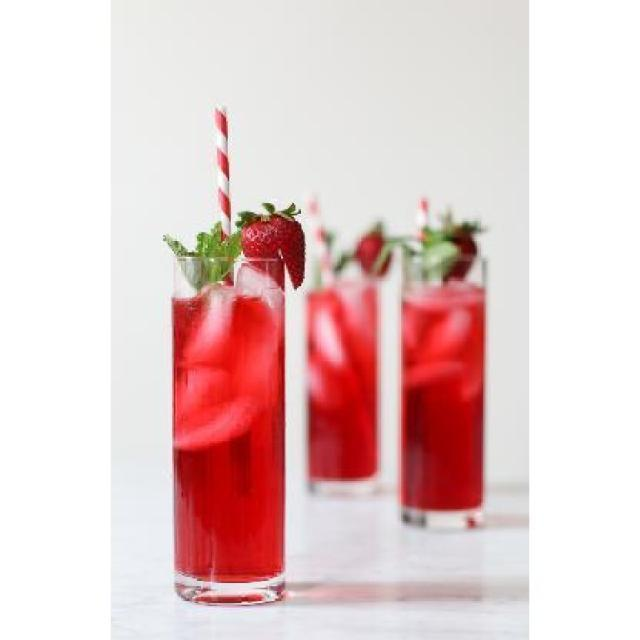Strawberry: (224, 200, 304, 292), (350, 230, 388, 272)
